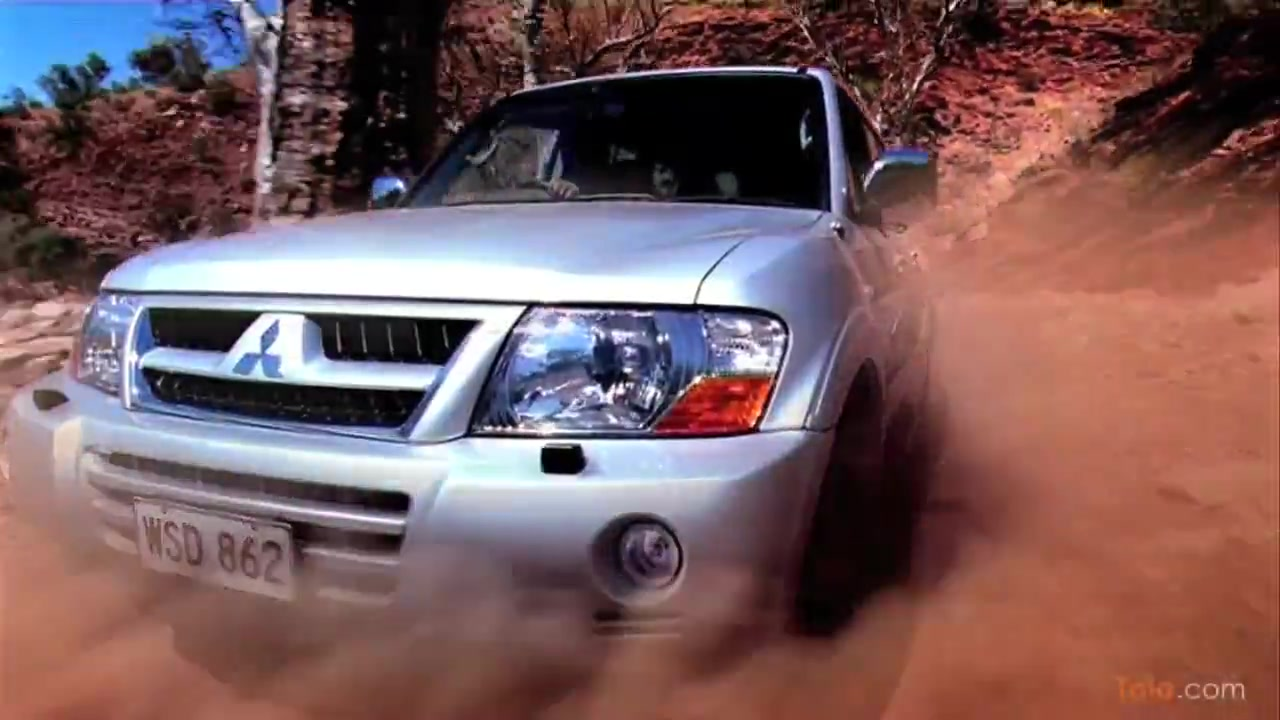car: (4, 66, 947, 681)
